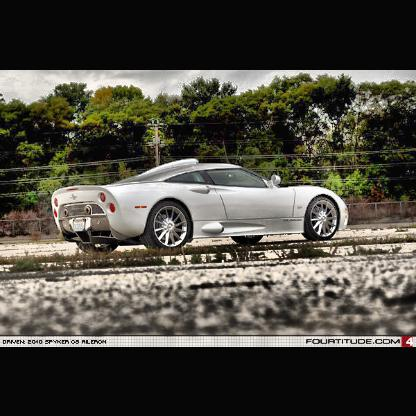Spyker C8 Coupe 2009: (51, 157, 353, 258)
